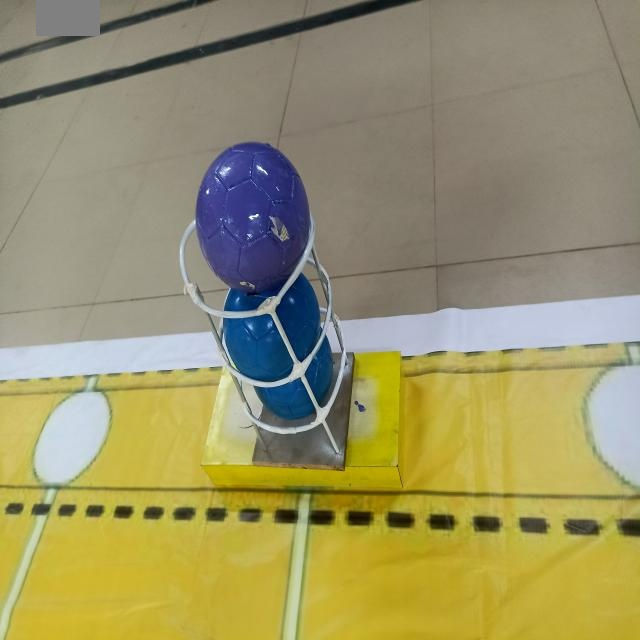blue_ball: (220, 293, 322, 380), (251, 339, 337, 430)
purple_ball: (195, 137, 308, 289)
silo: (156, 208, 348, 462)
